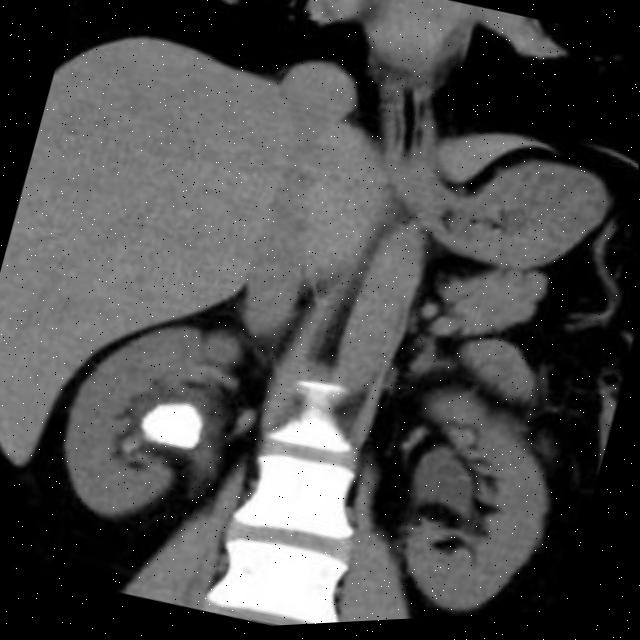Tas_Var: (131, 381, 222, 472)
